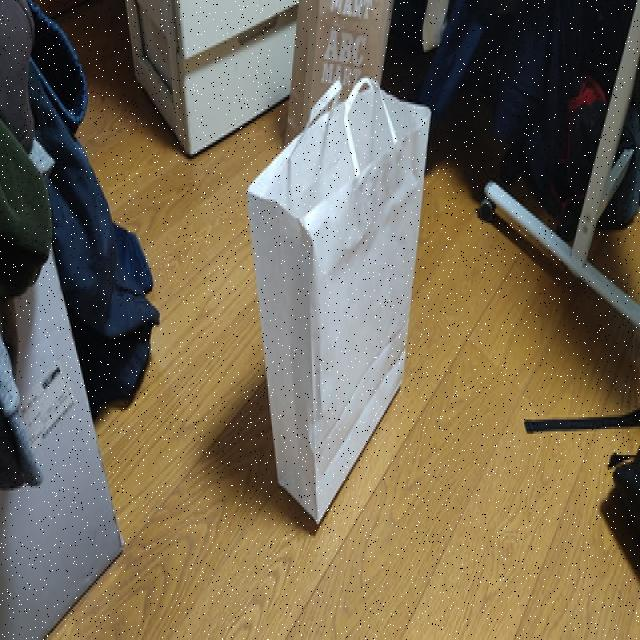paper bag: (246, 76, 432, 526), (288, 0, 393, 153)
